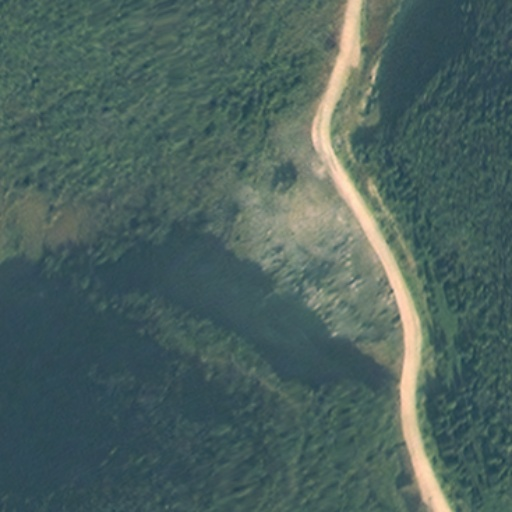landslide: (255, 172, 358, 246)
